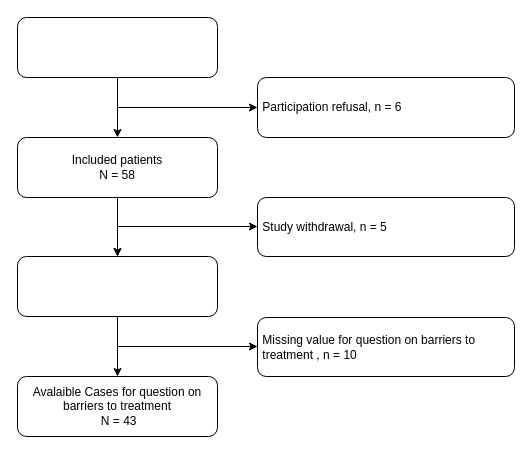
Some shapes in this 532 by 454 pixel diagram are drawn without their labels. The shapes that lost their labels are listed below. From the top down, each one's centre as x and y in pixels, then its label:
point 117,47: Eligible patients N = 64
point 117,286: Partients after withdrawal N = 53
